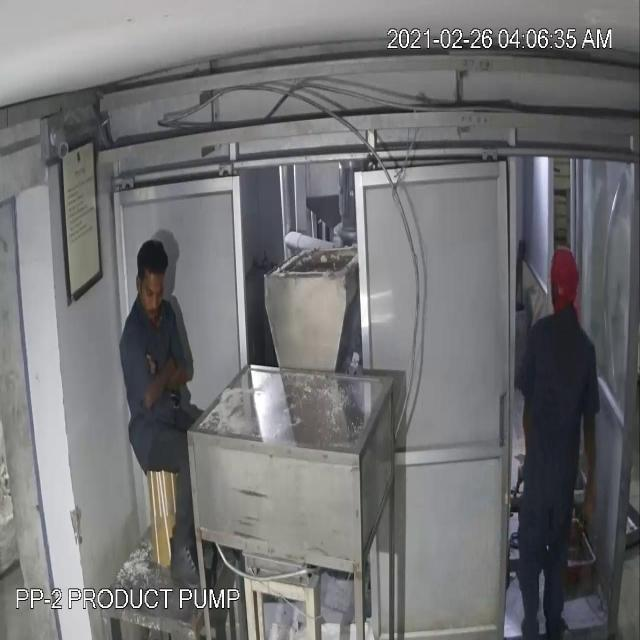no-helmet: (130, 232, 174, 291)
